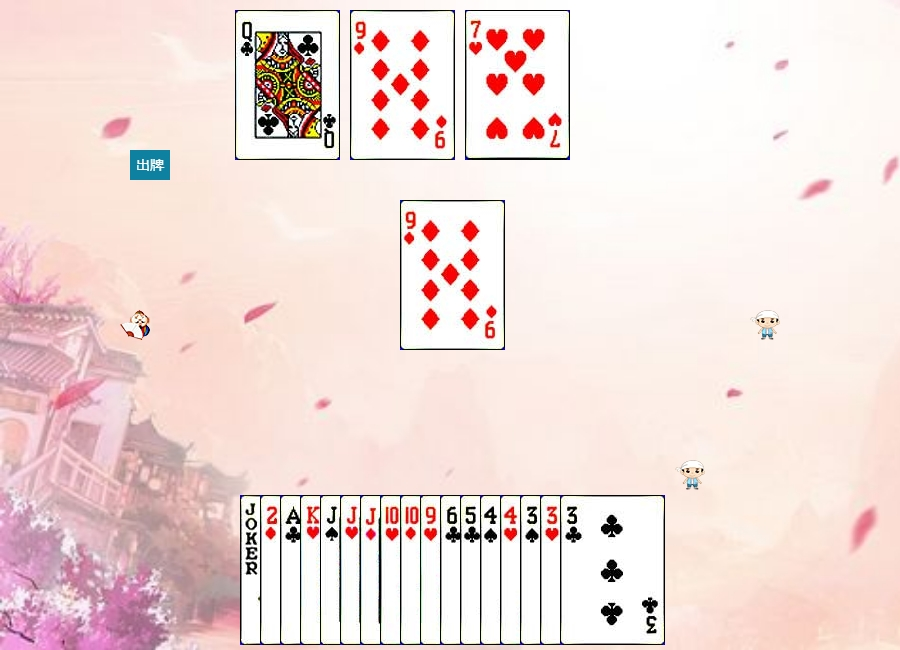10~1: (400, 495, 505, 645)
10~3: (380, 495, 485, 645)
11~1: (360, 495, 465, 645)
11~3: (340, 495, 445, 645)
11~4: (320, 495, 425, 645)
12~2: (235, 10, 340, 160)
13~3: (300, 495, 405, 645)
14~2: (280, 495, 385, 645)
15~1: (260, 495, 365, 645)
17~3: (240, 495, 345, 645)
3~2: (560, 495, 665, 645)
3~3: (540, 495, 645, 645)
3~4: (520, 495, 625, 645)
4~3: (500, 495, 605, 645)
4~4: (480, 495, 585, 645)
5~2: (460, 495, 565, 645)
6~2: (440, 495, 545, 645)
7~3: (465, 10, 570, 160)
9~1: (350, 10, 455, 160), (400, 200, 505, 350)
9~3: (420, 495, 525, 645)
